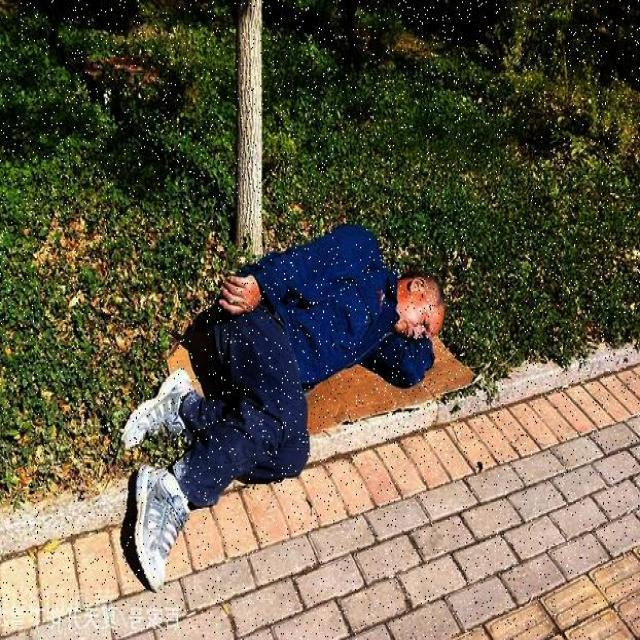fall: (141, 234, 449, 545)
